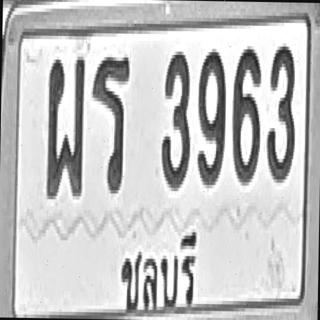A28: (46, 53, 84, 196)
A35: (90, 52, 130, 192)
N03: (265, 41, 296, 181), (160, 48, 191, 188)
N06: (230, 44, 262, 184)
N09: (196, 49, 226, 185)
P13: (114, 220, 198, 318)
